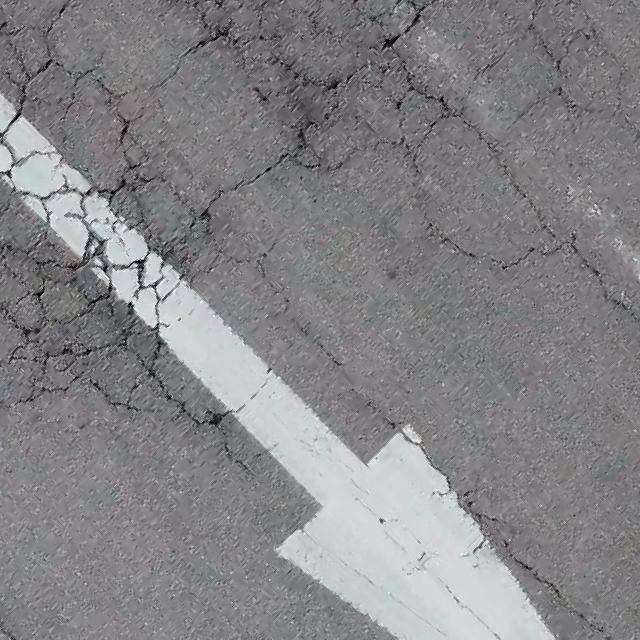GRIETA: (459, 490, 609, 639), (314, 339, 454, 492), (575, 249, 639, 322), (219, 433, 254, 477)
PIEL DE COCODRILO: (0, 0, 638, 434)
